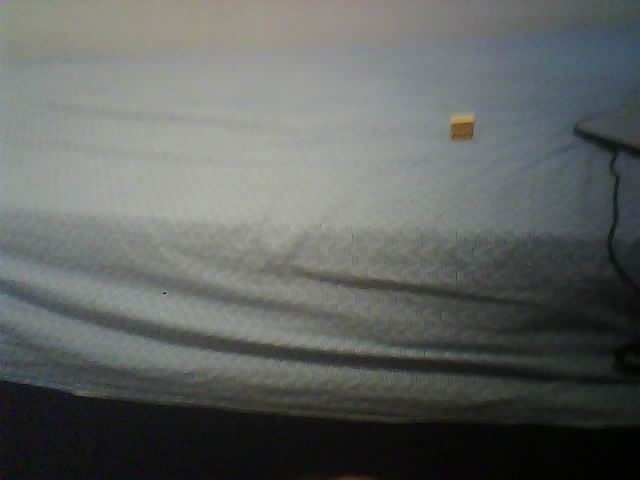lego: (447, 112, 476, 142)
